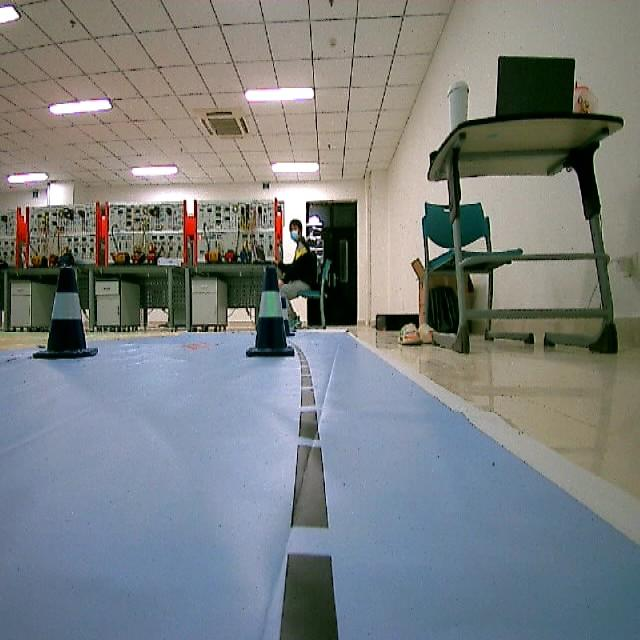obstacle: (35, 266, 95, 359), (244, 266, 293, 358)
